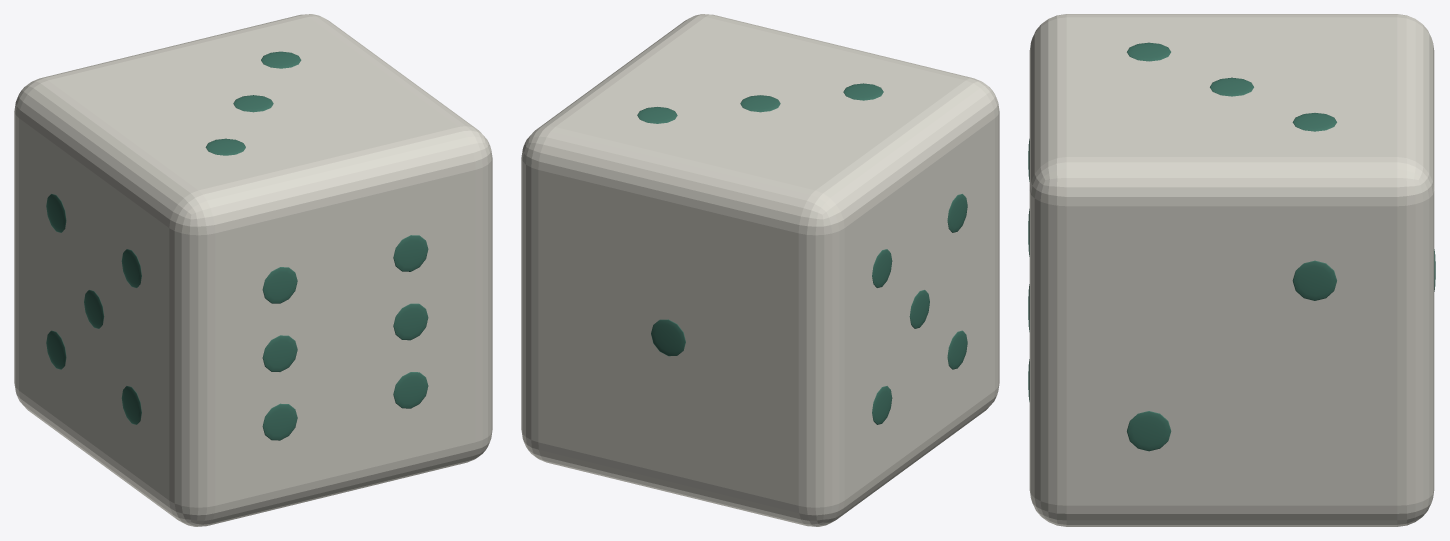
File: die-v5-original.glb
The picture shows the model from 3 angles, left to right: view 1: azimuth 30°, elevation 25°; view 2: azimuth 150°, elevation 25°; view 3: azimuth 270°, elevation 25°; orthographic projection. The views are drawn at different scales.
Parts seen in each view (by area): view 1: Dice • rounded porcelain body, Dice • pip 6-5, Dice • pip 6-3, Dice • pip 6-6, Dice • pip 6-1, Dice • pip 6-2, Dice • pip 6-4, Dice • pip 5-4, Dice • pip 5-1, Dice • pip 5-5, Dice • pip 5-2, Dice • pip 5-3 (+3 smaller); view 2: Dice • rounded porcelain body, Dice • pip 1-1, Dice • pip 5-1, Dice • pip 5-4, Dice • pip 5-2, Dice • pip 5-5, Dice • pip 5-3, Dice • pip 3-1, Dice • pip 3-2, Dice • pip 3-3; view 3: Dice • rounded porcelain body, Dice • pip 2-1, Dice • pip 2-2, Dice • pip 3-2, Dice • pip 3-1, Dice • pip 3-3.
Boxes of the visible parts, left/top/right/bottom form: Dice • rounded porcelain body: left=14, top=14, right=492, bottom=526; Dice • pip 6-5: left=393, top=303, right=428, bottom=340; Dice • pip 6-3: left=262, top=403, right=297, bottom=440; Dice • pip 6-6: left=393, top=372, right=428, bottom=408; Dice • pip 6-1: left=262, top=267, right=297, bottom=303; Dice • pip 6-2: left=262, top=335, right=297, bottom=371; Dice • pip 6-4: left=393, top=235, right=428, bottom=271; Dice • pip 5-4: left=46, top=330, right=66, bottom=369; Dice • pip 5-1: left=121, top=386, right=141, bottom=424; Dice • pip 5-5: left=46, top=194, right=66, bottom=232; Dice • pip 5-2: left=121, top=249, right=141, bottom=287; Dice • pip 5-3: left=84, top=290, right=104, bottom=328; Dice • rounded porcelain body: left=521, top=14, right=999, bottom=526; Dice • pip 1-1: left=651, top=319, right=685, bottom=356; Dice • pip 5-1: left=947, top=330, right=967, bottom=369; Dice • pip 5-4: left=872, top=386, right=892, bottom=424; Dice • pip 5-2: left=947, top=194, right=967, bottom=232; Dice • pip 5-5: left=872, top=249, right=892, bottom=287; Dice • pip 5-3: left=909, top=290, right=929, bottom=328; Dice • pip 3-1: left=843, top=83, right=883, bottom=100; Dice • pip 3-2: left=740, top=95, right=780, bottom=112; Dice • pip 3-3: left=637, top=107, right=677, bottom=123; Dice • rounded porcelain body: left=1029, top=14, right=1434, bottom=526; Dice • pip 2-1: left=1127, top=411, right=1171, bottom=451; Dice • pip 2-2: left=1292, top=260, right=1336, bottom=300; Dice • pip 3-2: left=1210, top=77, right=1253, bottom=96; Dice • pip 3-1: left=1127, top=42, right=1170, bottom=61; Dice • pip 3-3: left=1292, top=113, right=1336, bottom=131.
Bounding box in the file's own units: 0.604 × 0.604 × 0.604.
